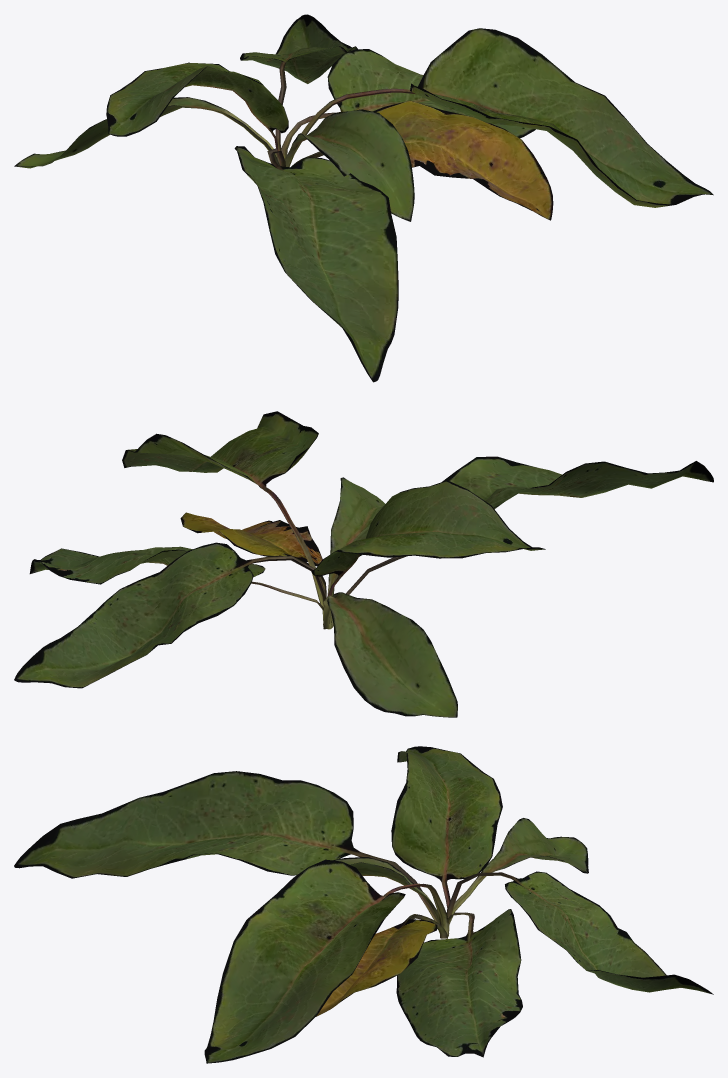
The model's file is mato_erva.glb.
The picture shows the model from 3 angles, top to bottom: view 1: azimuth 30°, elevation 25°; view 2: azimuth 150°, elevation 25°; view 3: azimuth 270°, elevation 25°; orthographic projection. The views are drawn at different scales.
Visible parts, largest first — view 1: weed_plant_02_a_LOD0; view 2: weed_plant_02_a_LOD0; view 3: weed_plant_02_a_LOD0.
Part boxes in pixels (x1,y1,x2,y2): weed_plant_02_a_LOD0: (14, 14, 713, 382); weed_plant_02_a_LOD0: (14, 411, 713, 717); weed_plant_02_a_LOD0: (14, 746, 713, 1063).
Size of the model in its own units: 0.2194 by 0.0725 by 0.2909.
Materials: 1 (1 with a texture image).
